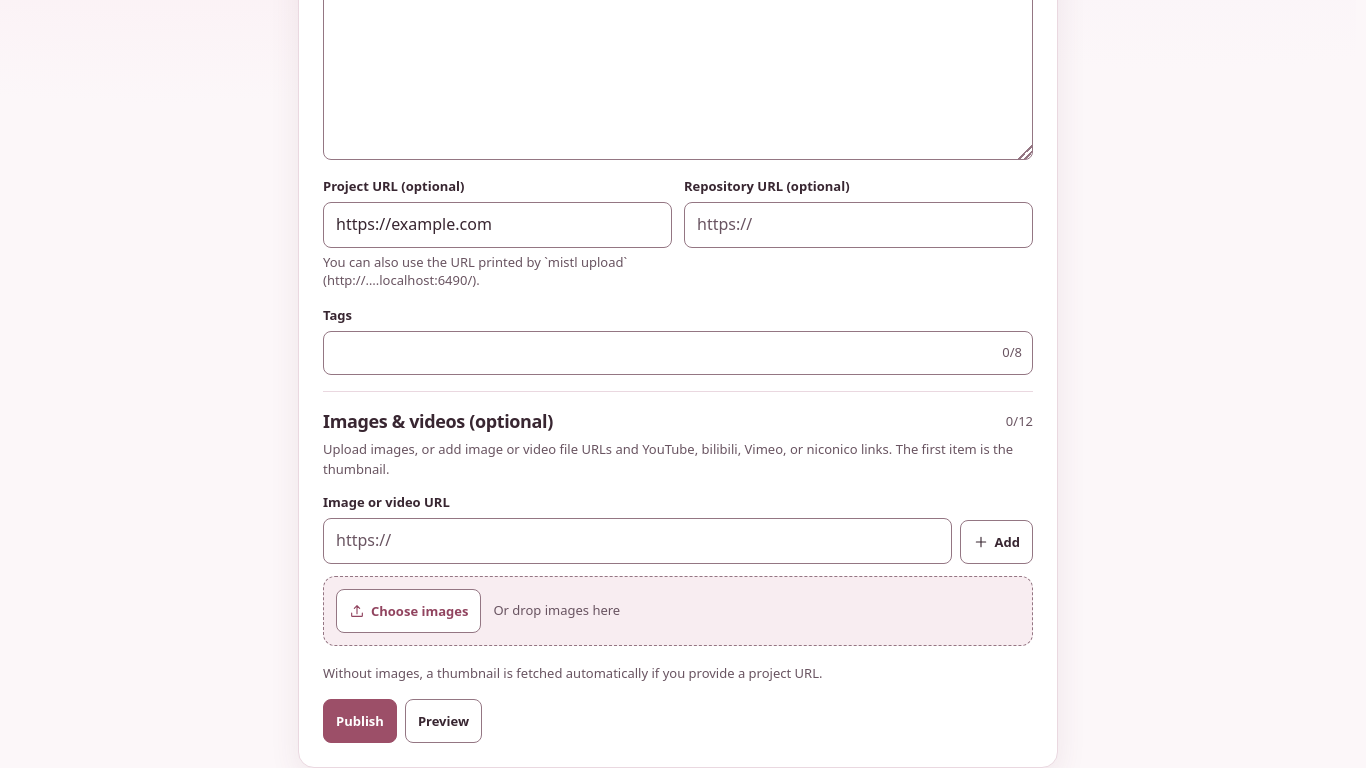
Scenario: previews the unsaved draft without submitting it
(page scrolled)
Click the button "Preview". click: (444, 722)
box: [405,700,482,744]
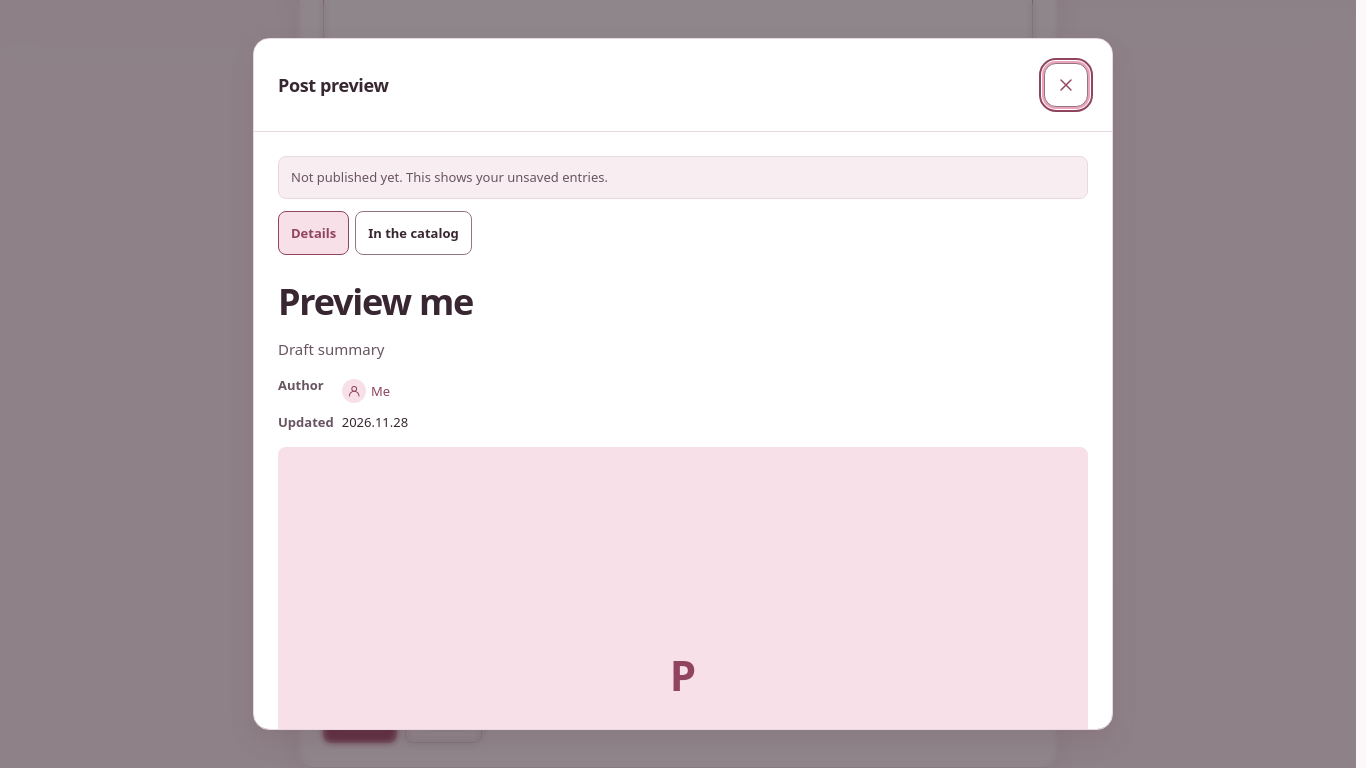
Result: the dialog shows "Preview me" at [278,277,473,326]
Result: the dialog shows "Draft summary" at [278,339,384,359]
Click the button named "Close". click: (1066, 85)
box: [1044,63,1088,107]
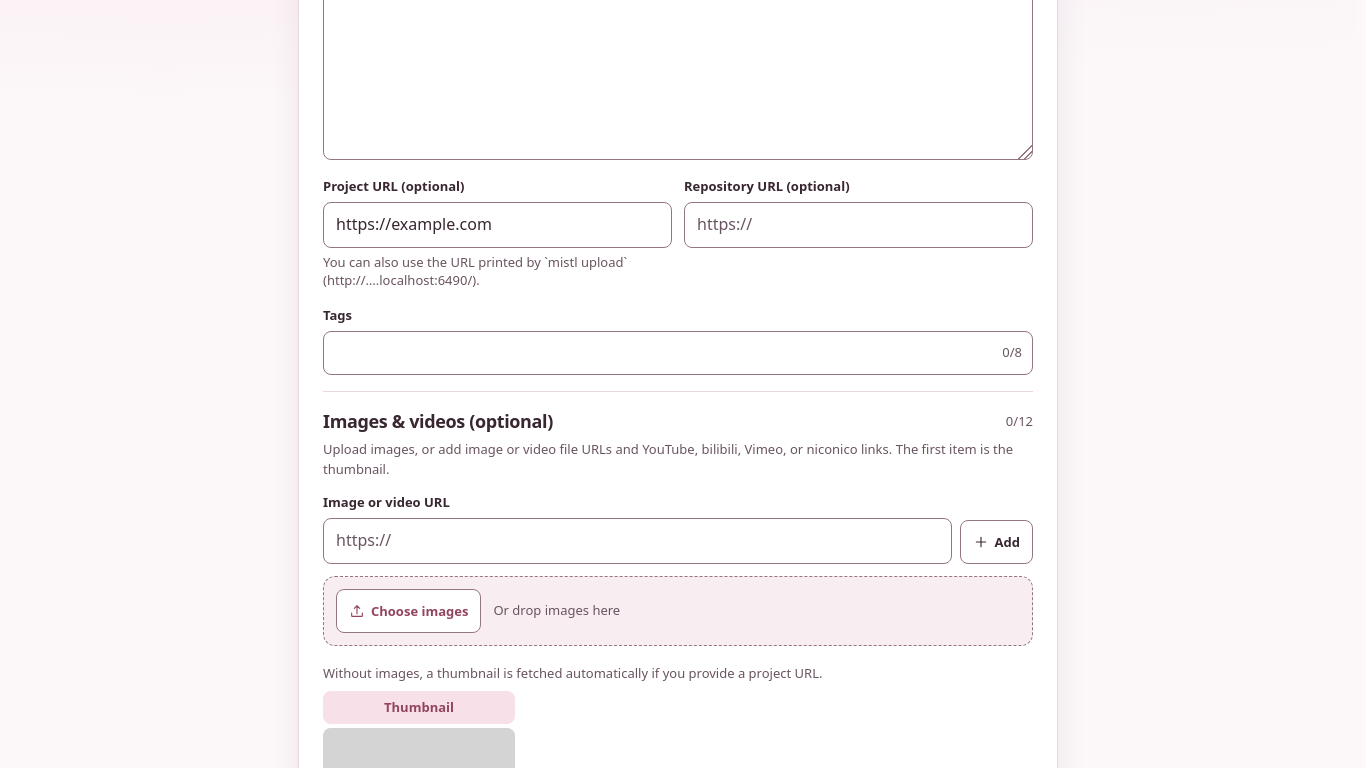
Result: the dialog is gone
